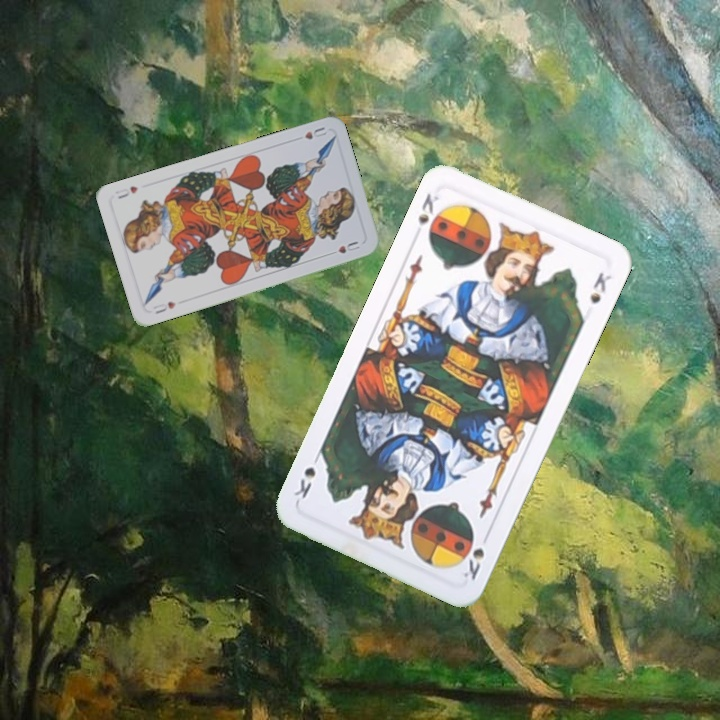HU: (301, 122, 329, 142), (149, 297, 178, 316)
SK: (413, 189, 442, 227), (459, 544, 487, 583)
